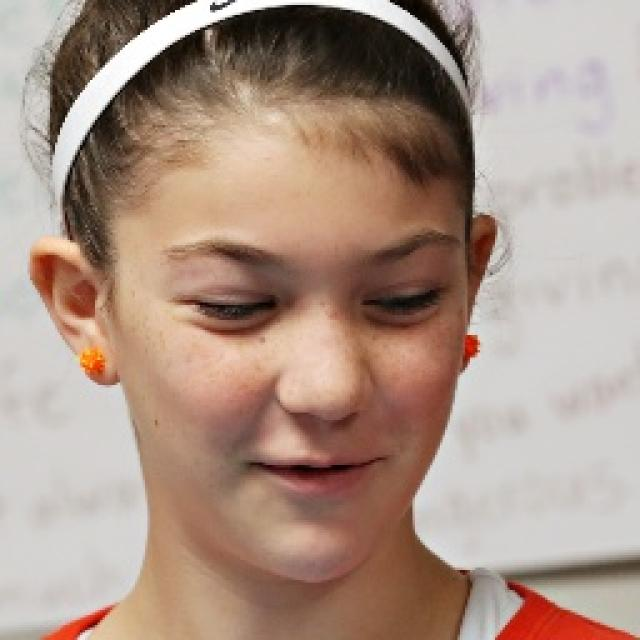earlobe: (27, 238, 124, 386), (461, 213, 497, 376)
